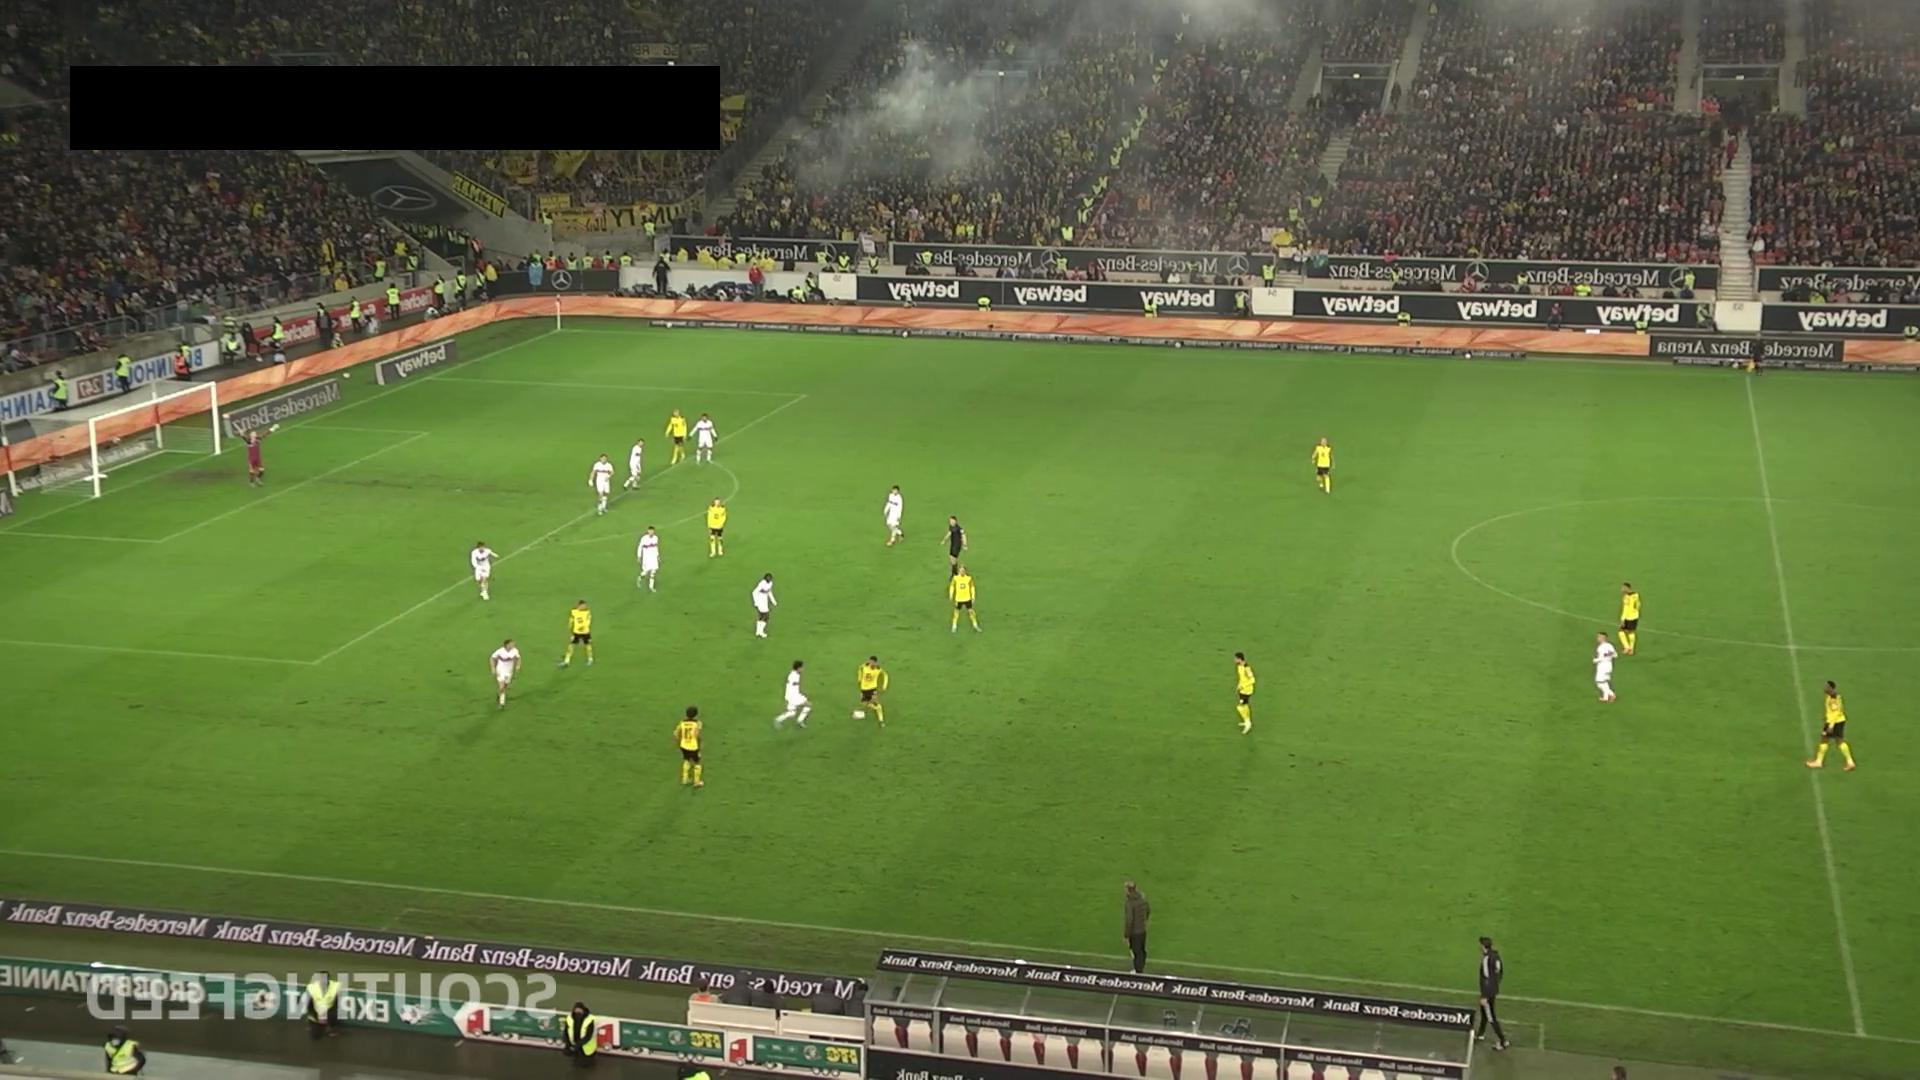ball: (852, 709, 868, 721)
goalkeeper: (232, 421, 280, 488)
player: (1805, 679, 1856, 772), (772, 660, 813, 730), (673, 705, 705, 789), (557, 598, 595, 668), (854, 654, 888, 729), (948, 563, 983, 634), (490, 637, 522, 709), (1233, 651, 1256, 735), (751, 572, 778, 639), (470, 540, 500, 600), (1617, 581, 1641, 655), (1592, 631, 1617, 702), (588, 452, 615, 516), (636, 524, 661, 592), (688, 412, 718, 464), (664, 408, 688, 465), (1311, 436, 1335, 493), (706, 496, 728, 558), (883, 484, 904, 547), (624, 437, 645, 489)
referee: (938, 515, 967, 578), (1745, 329, 1768, 378)
